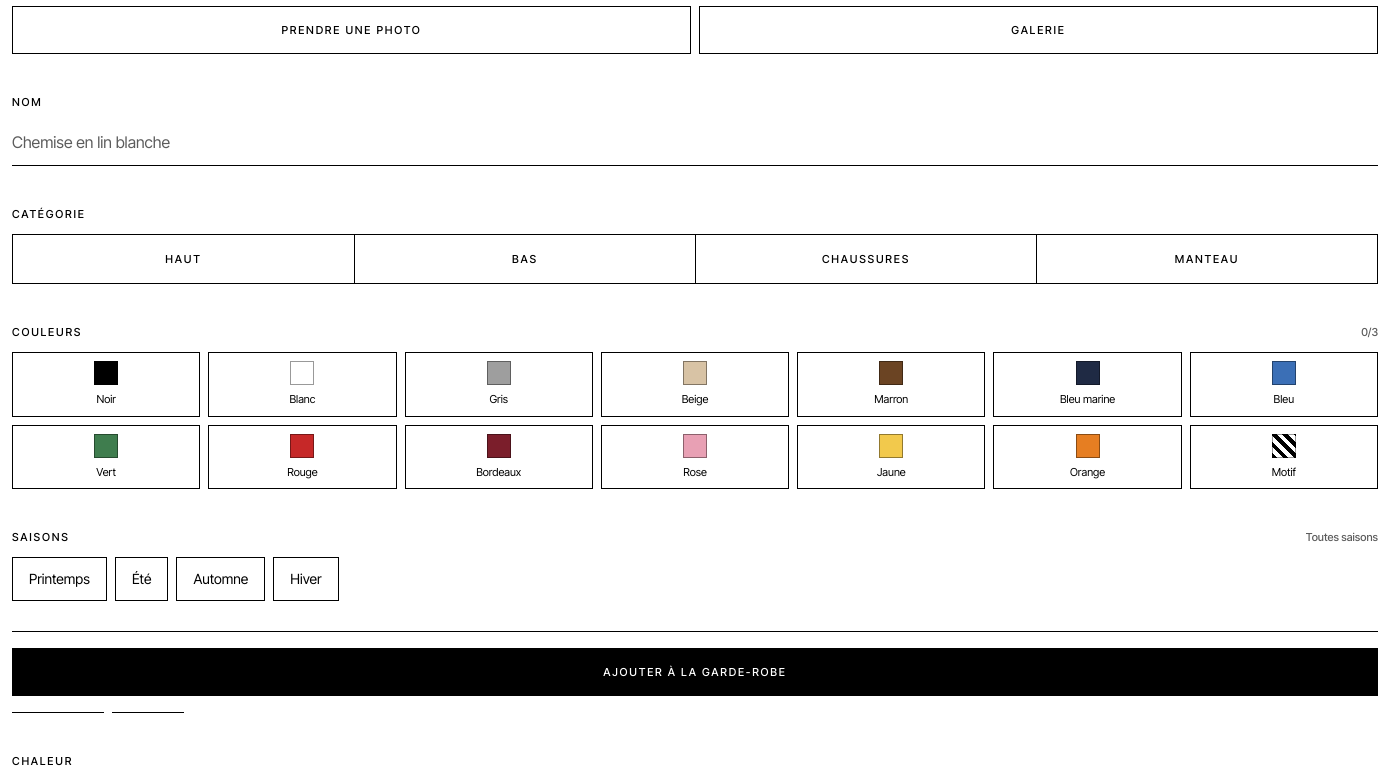
Test case: GarmentForm › limits the selection to three colours
(page scrolled)
What coordinates should you click on to do the following:
click the checkbox labelled "Noir"
I would click on:
 (106, 385)
Its box is [12, 352, 200, 417].
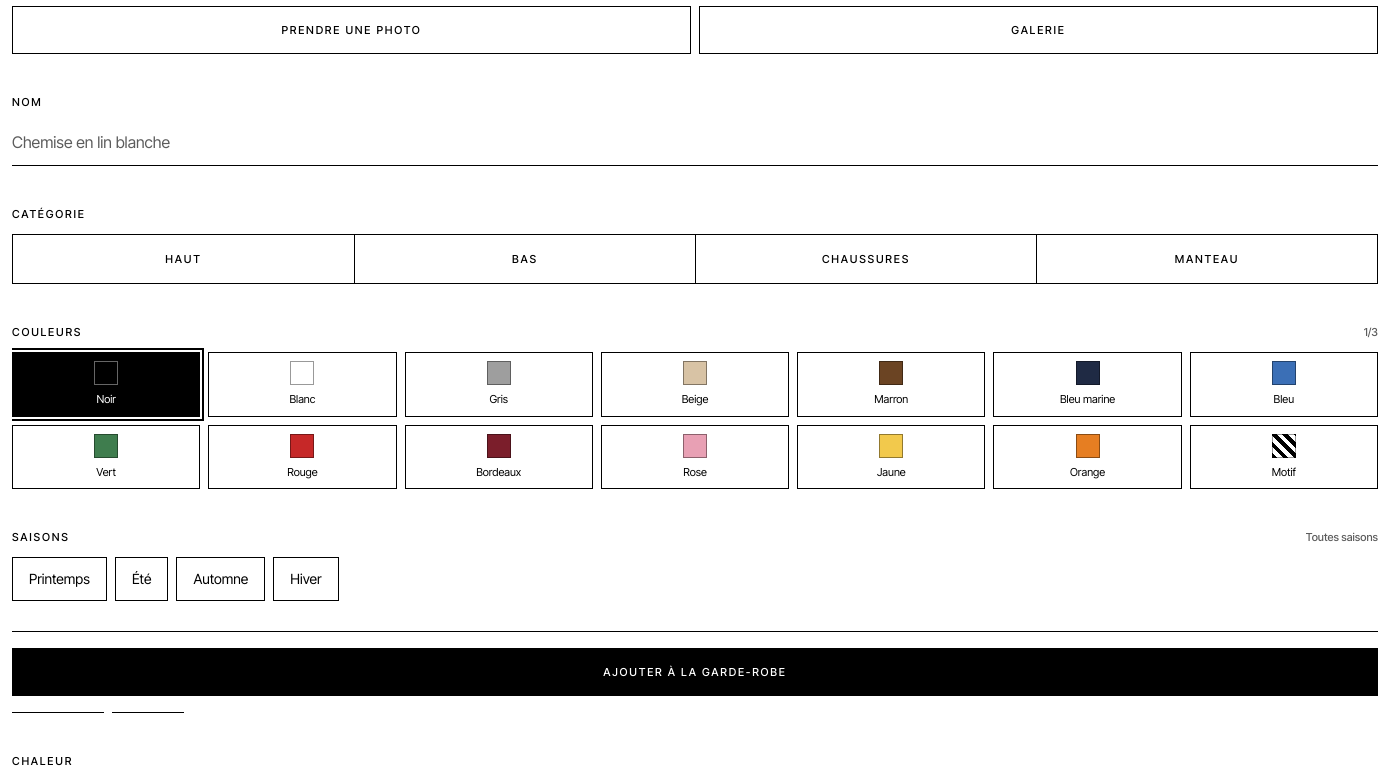
What coordinates should you click on to do the following:
click the checkbox labelled "Blanc"
I would click on:
 (302, 385)
Its box is [208, 352, 397, 417].
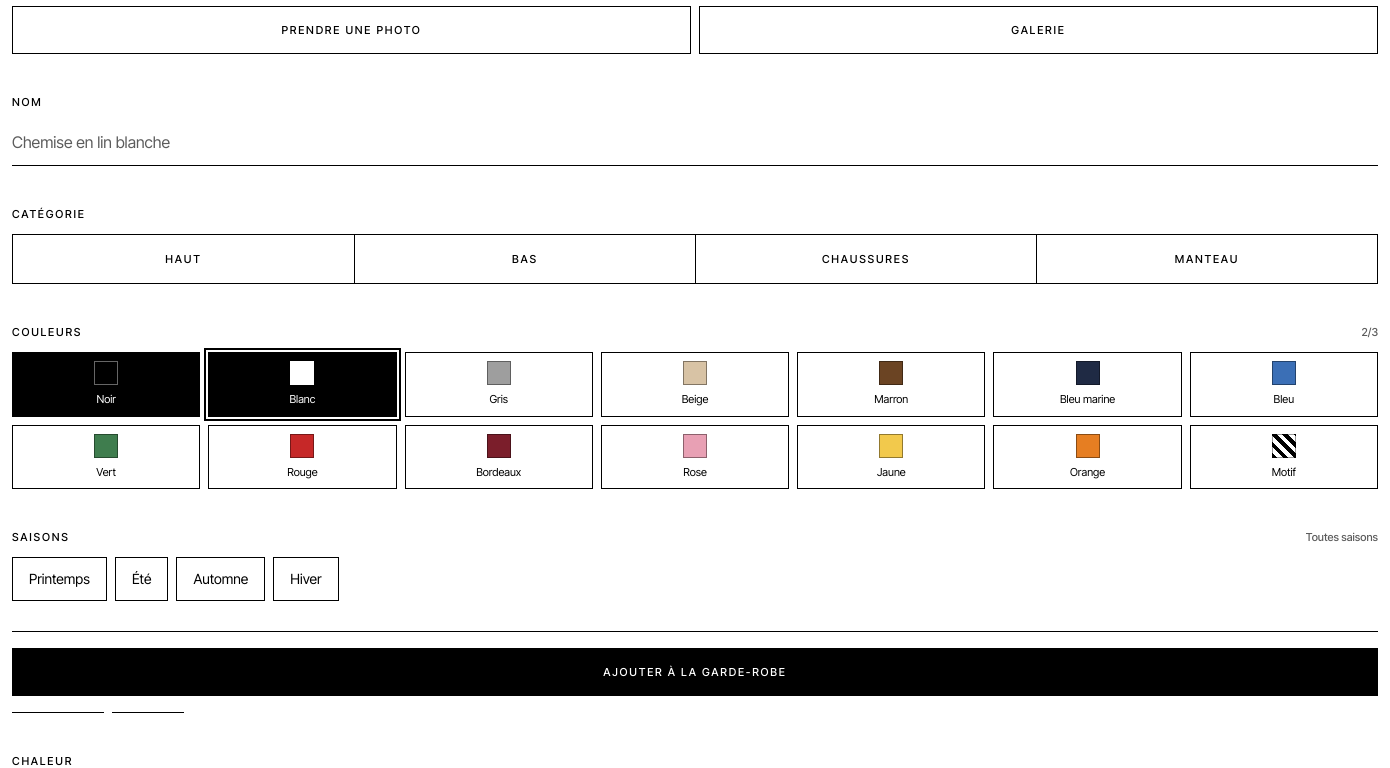
What coordinates should you click on to do the following:
click the checkbox labelled "Gris"
I would click on:
 (499, 385)
Its box is [405, 352, 593, 417].
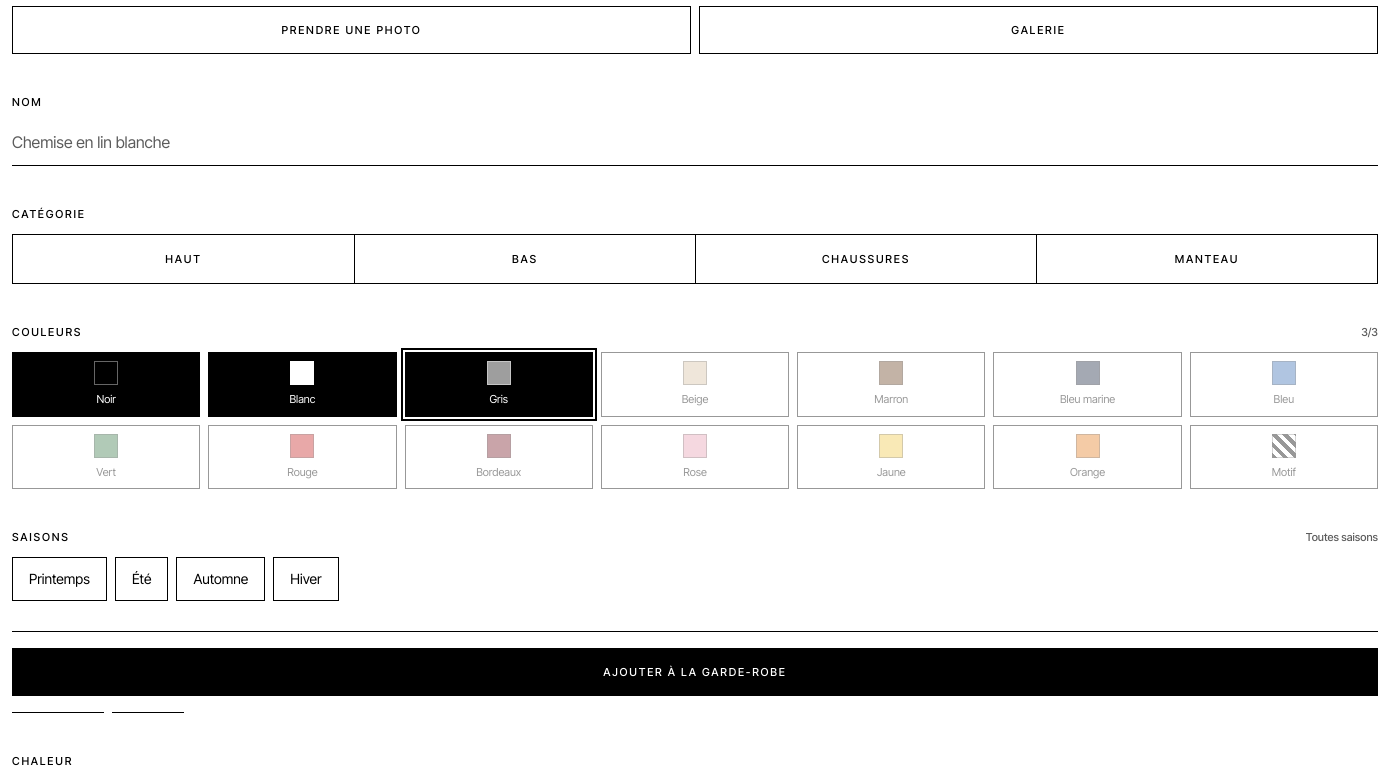
Check: the text "3/3" is shown, box [1361, 324, 1378, 340]
